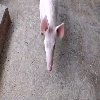heo: (36, 14, 70, 73)
